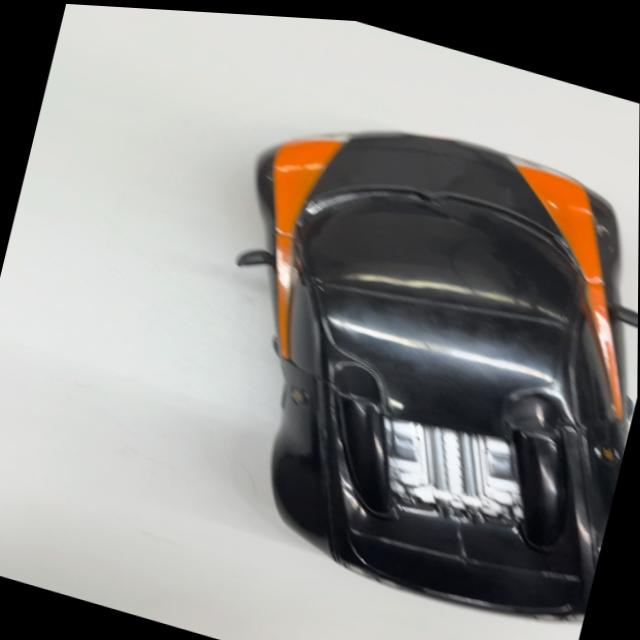vehicle_body: (172, 76, 640, 640)
